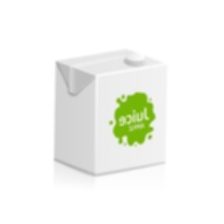carton: (44, 40, 178, 175)
